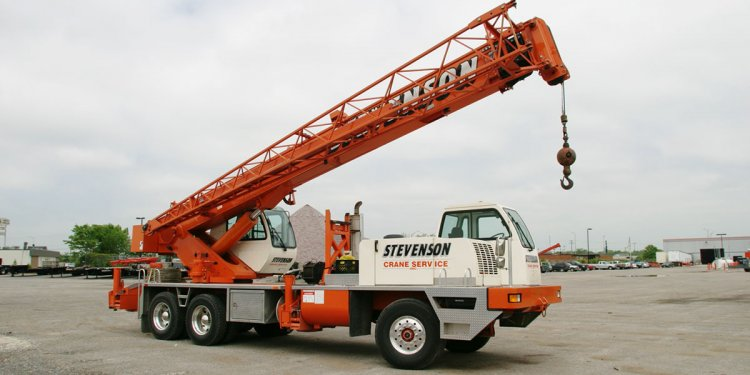crane: (118, 2, 575, 370)
